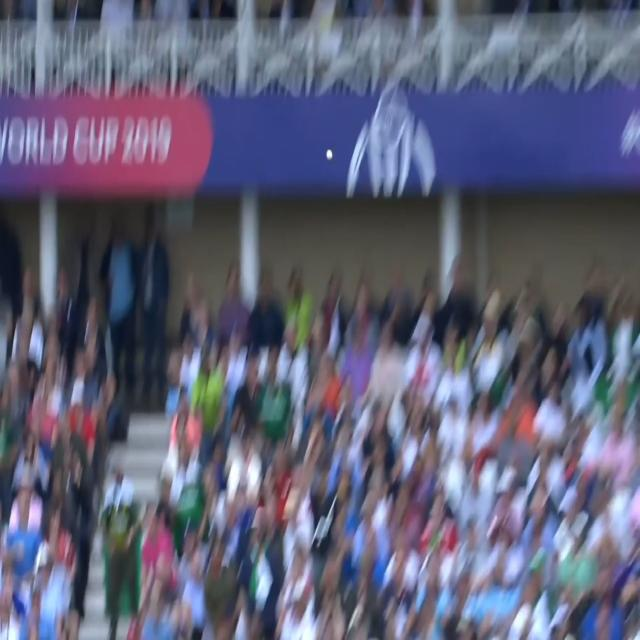ball: (321, 144, 337, 166)
